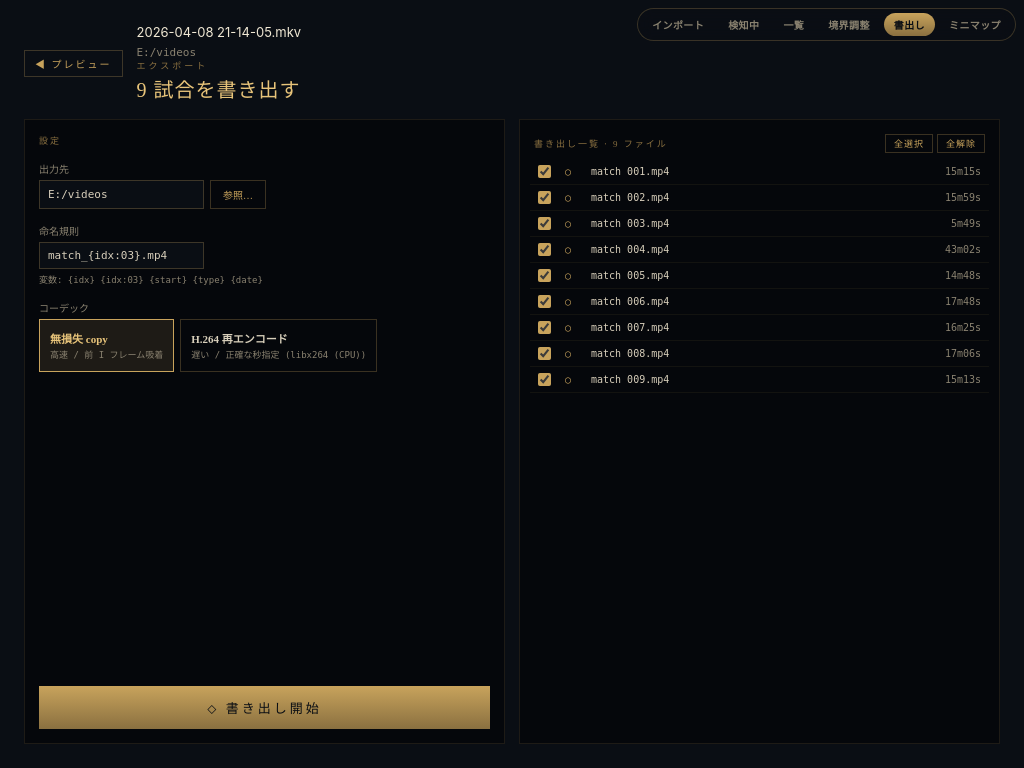
Scenario: flow I: export completes (#466) › walks through every match and surfaces the フォルダを開く button
Click the button "⬦ 書き出し開始" at {"x": 264, "y": 708}, box [39,686,490,729]
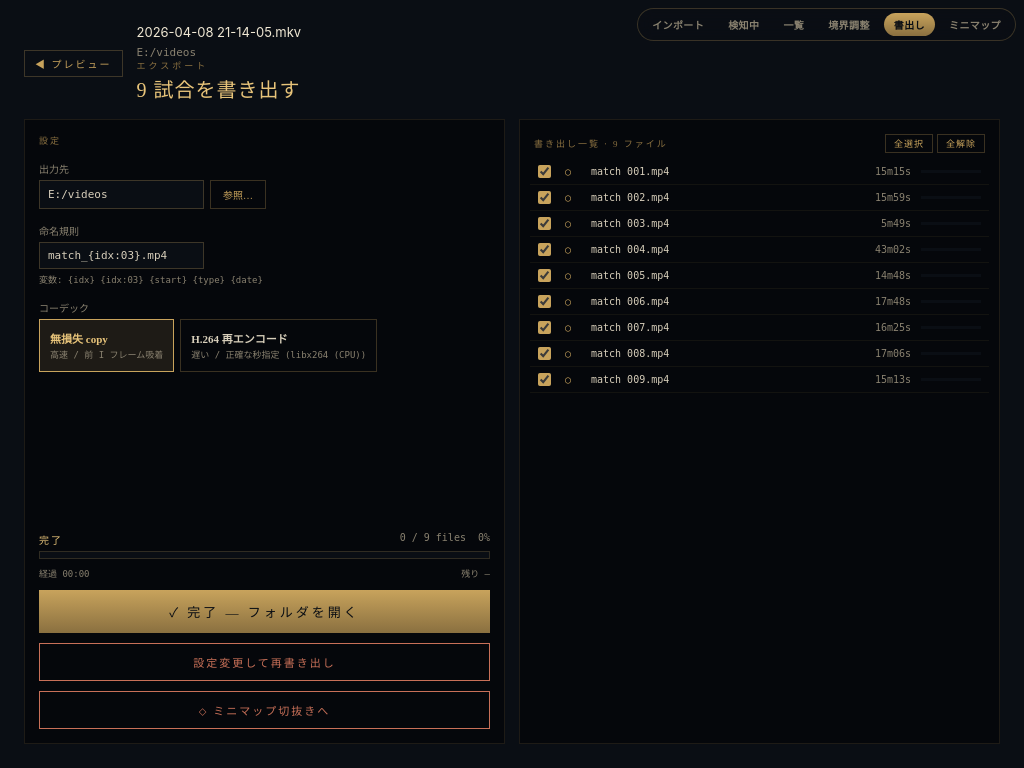
Result: the button "✓ 完了 — フォルダを開く" is shown at [39,590,490,633]
